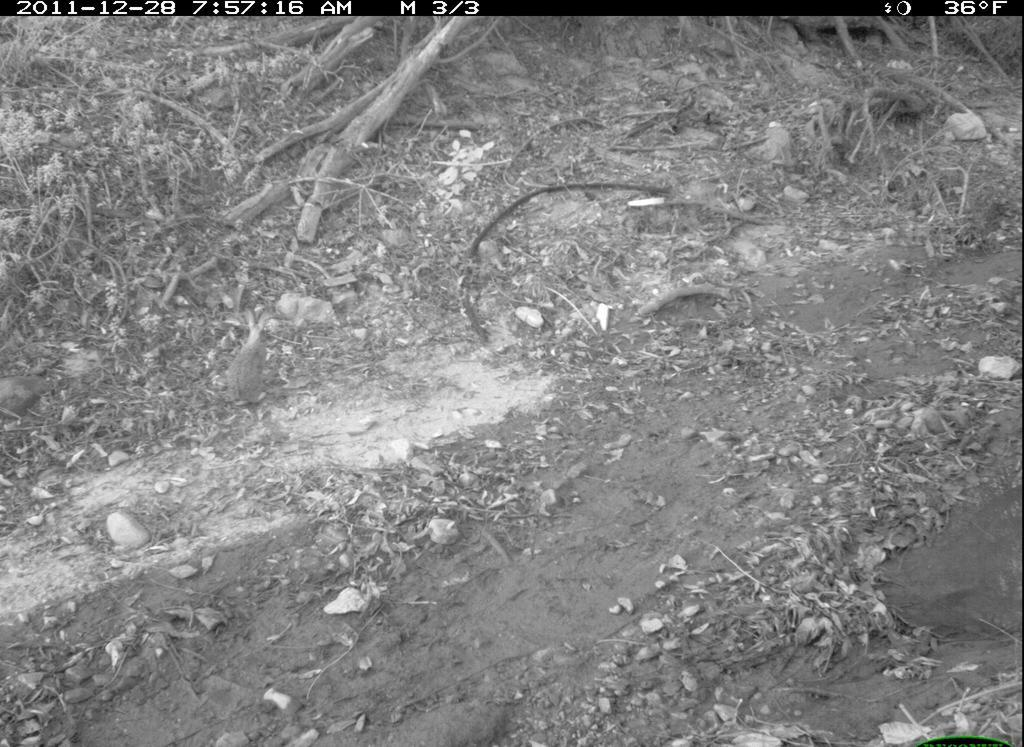rabbit: (221, 301, 286, 423)
